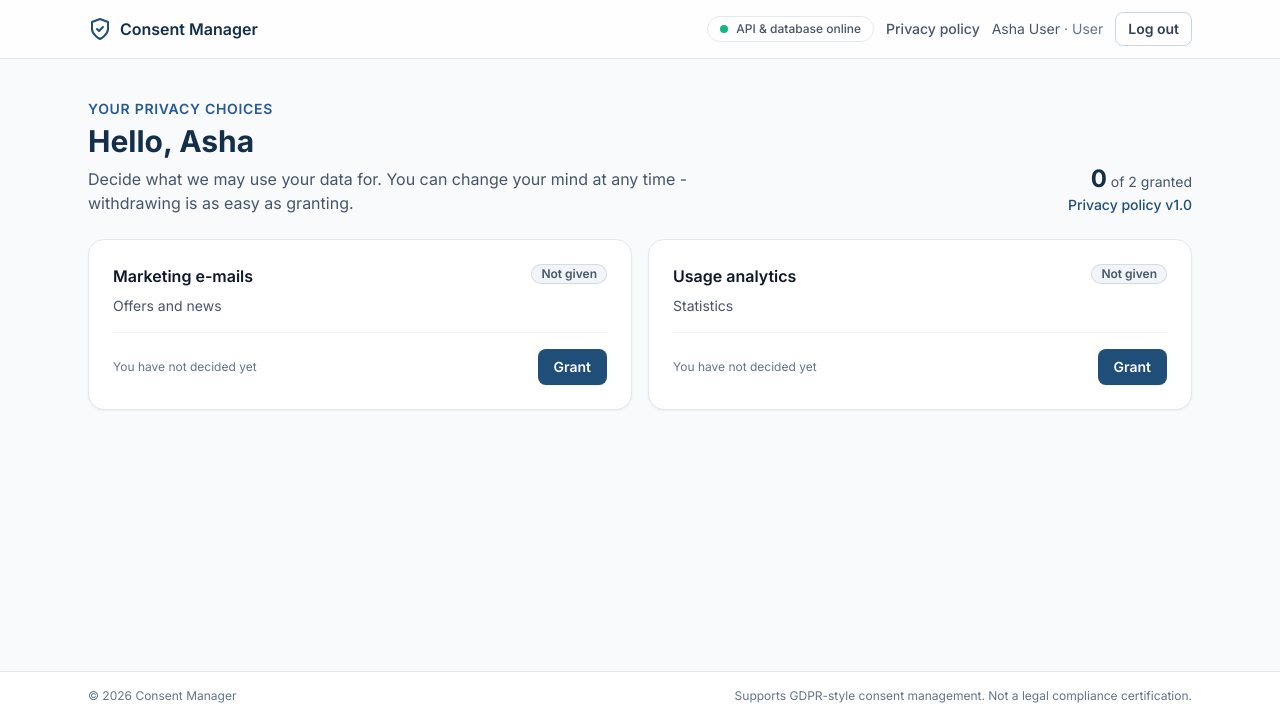
it: Consent Dashboard (#9) › shows the API error if saving fails
Click the 1st button "Grant".
click(572, 367)  # box [538,349,607,385]
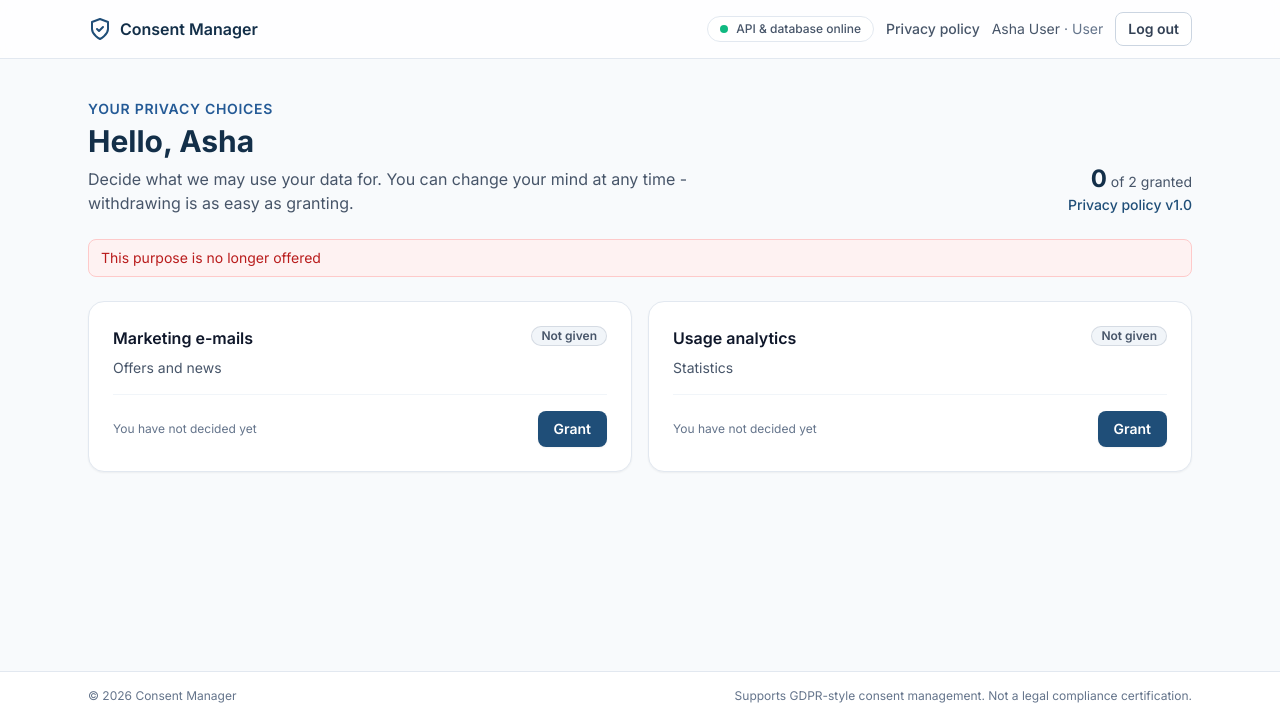
Check: the message "This purpose is no longer offered" is shown, box [88,239,1192,277]
